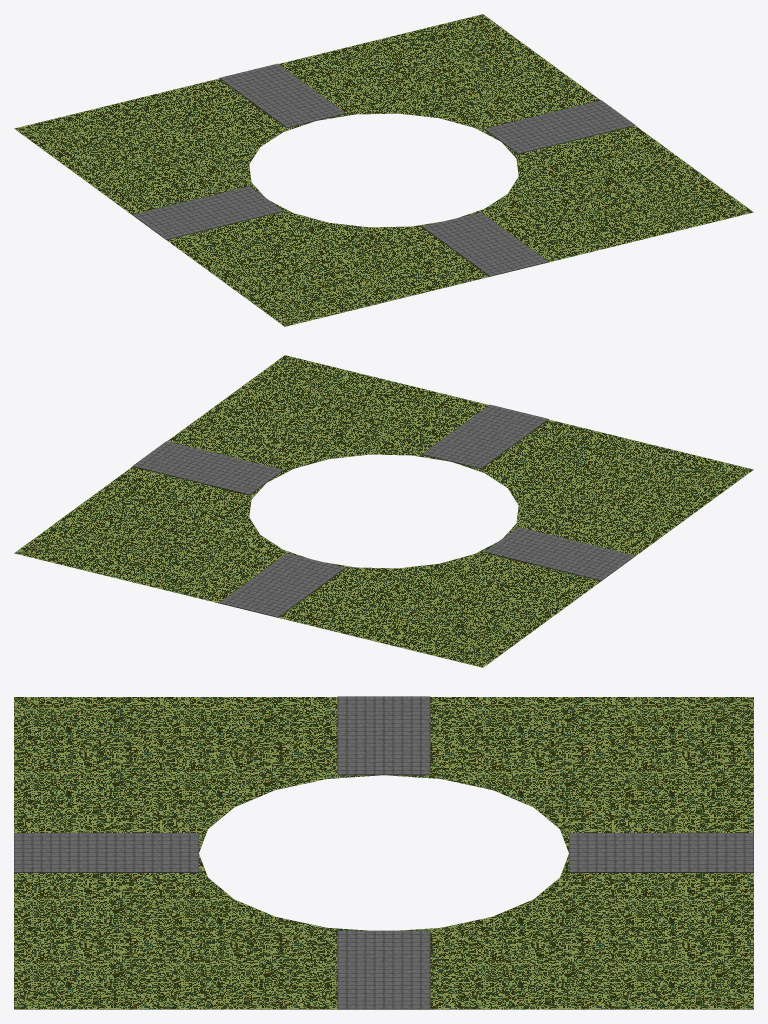
The model's file is CenteralParkGrass.glb.
3 views of the same model, one above another, from view 1: azimuth 30°, elevation 25°; view 2: azimuth 150°, elevation 25°; view 3: azimuth 270°, elevation 25° (orthographic). The views are drawn at different scales.
Visible parts, largest first — view 1: GrassGround2; view 2: GrassGround2; view 3: GrassGround2.
Part boxes in pixels (box(x1,y1,x2,y2)): GrassGround2: box(14, 14, 753, 326); GrassGround2: box(14, 355, 753, 667); GrassGround2: box(14, 696, 753, 1009).
Size of the model in its own units: 80 by 0.1008 by 80.
Materials: 2 (2 with a texture image).
